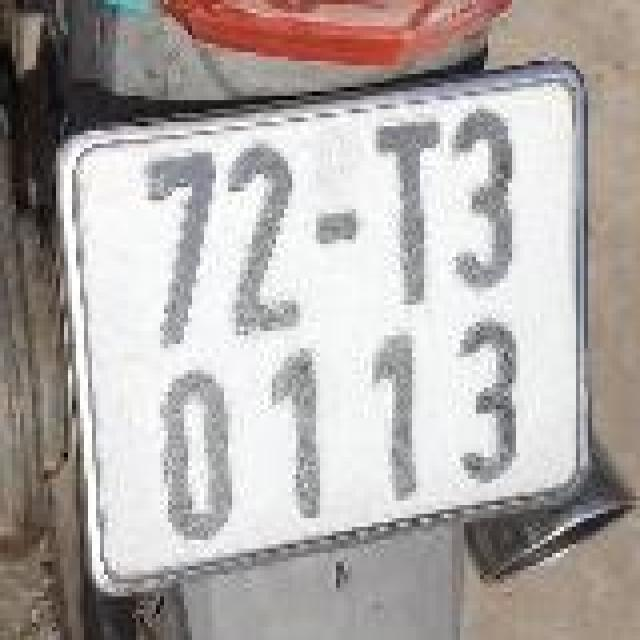0: (154, 363, 250, 560)
1: (268, 348, 344, 527), (364, 324, 432, 508)
2: (224, 133, 316, 342)
3: (450, 100, 530, 309), (446, 313, 534, 492)
7: (134, 150, 222, 355)
T: (368, 107, 444, 307)
